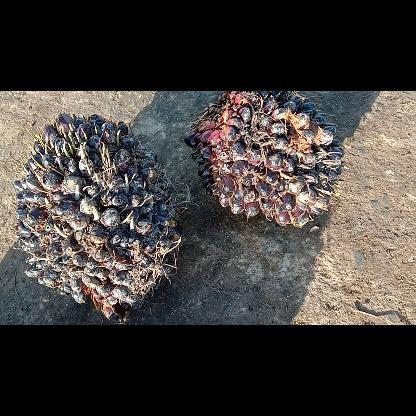TBS mentah: (11, 114, 184, 324), (179, 91, 349, 230)
